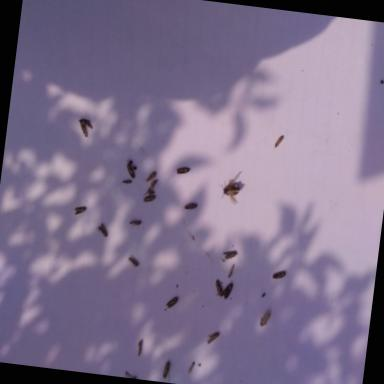pbw: (220, 281, 234, 304), (96, 221, 110, 244), (124, 160, 139, 178), (258, 310, 272, 328), (160, 360, 172, 381), (163, 295, 179, 310), (174, 164, 191, 178), (269, 270, 287, 282), (222, 248, 238, 261), (206, 330, 219, 346), (144, 170, 156, 186), (272, 134, 284, 150), (180, 201, 197, 212), (126, 255, 140, 268), (79, 122, 90, 138), (214, 278, 224, 295), (72, 204, 86, 216), (78, 118, 94, 128), (142, 194, 156, 204), (148, 179, 158, 193), (128, 218, 142, 226), (227, 264, 234, 278), (136, 340, 142, 356), (188, 361, 194, 374)
